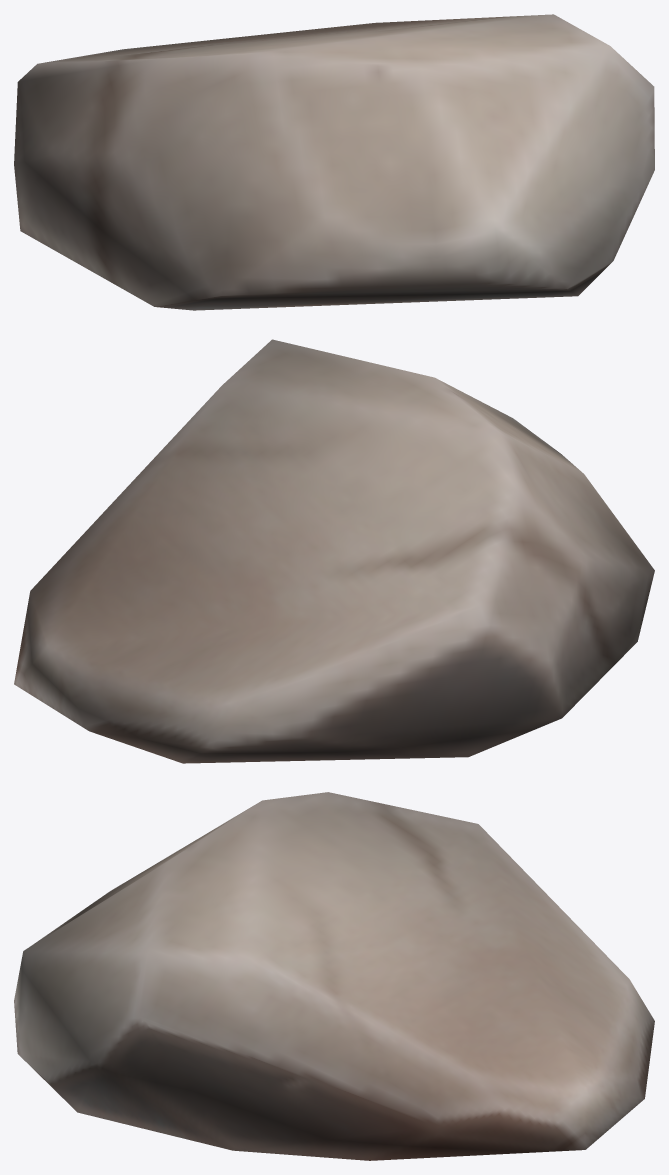
Rendered from SM_Gem_Iron_Piece_002.fbx.
3 renders of one model, top to bottom at view 1: azimuth 30°, elevation 25°; view 2: azimuth 150°, elevation 25°; view 3: azimuth 270°, elevation 25°, orthographic. The views are drawn at different scales.
Visible parts, largest first — view 1: SM_Gem_Iron_Piece_002; view 2: SM_Gem_Iron_Piece_002; view 3: SM_Gem_Iron_Piece_002.
Boxes of the visible parts, box(x1,y1,x2,y2) form: SM_Gem_Iron_Piece_002: box(14, 14, 654, 310); SM_Gem_Iron_Piece_002: box(14, 339, 654, 763); SM_Gem_Iron_Piece_002: box(14, 792, 654, 1160).
Size of the model in its own units: 17.3 by 7.33 by 19.8.
